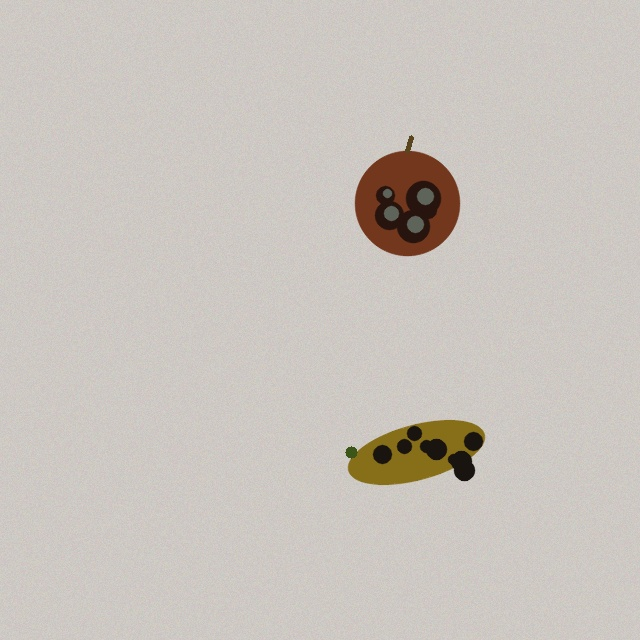Rotten apple: (355, 137, 459, 255)
Rotten banana: (343, 419, 489, 485)
